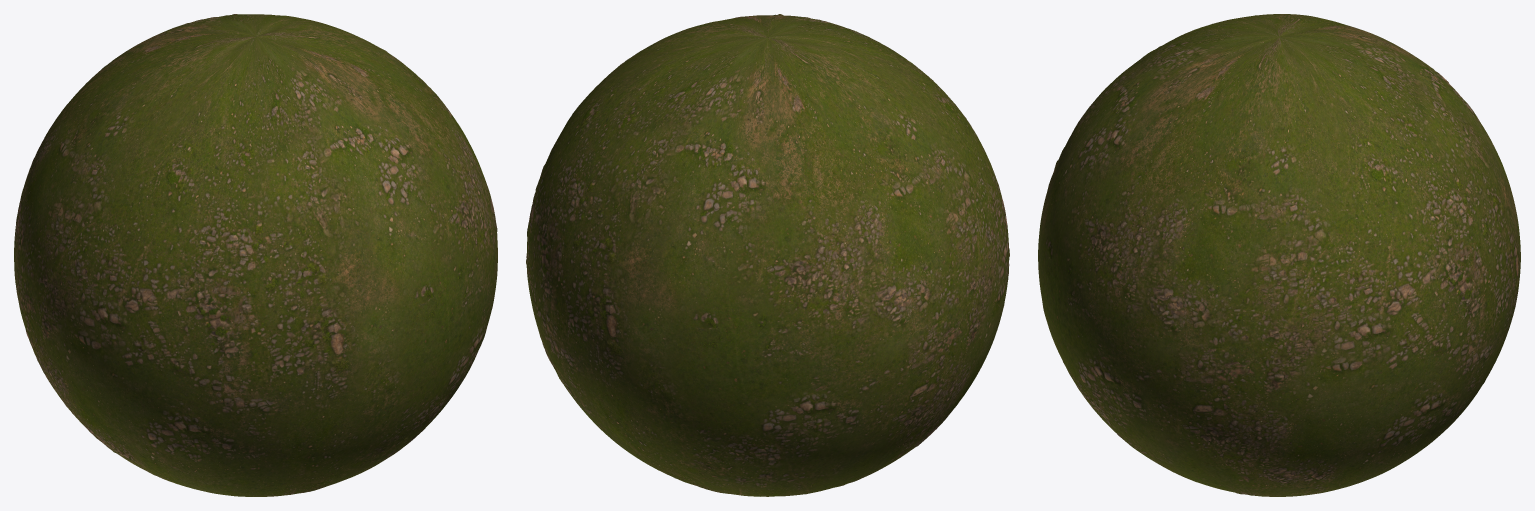
File: rockyTerrain.glb
3 renders of one model, left to right at view 1: azimuth 30°, elevation 25°; view 2: azimuth 150°, elevation 25°; view 3: azimuth 270°, elevation 25°, orthographic.
Parts seen in each view (by area): view 1: sphere_gltf; view 2: sphere_gltf; view 3: sphere_gltf.
Boxes of the visible parts, <box> form: sphere_gltf: <box>14,14,497,496</box>; sphere_gltf: <box>526,14,1009,496</box>; sphere_gltf: <box>1038,14,1520,496</box>.
Bounding box in the file's own units: 89.94 × 89.97 × 89.89.
Materials: 1 (1 with a texture image).
